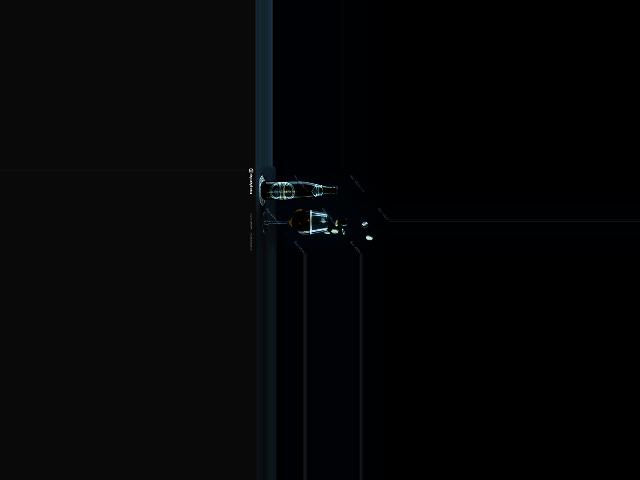beer: (262, 181, 337, 199)
